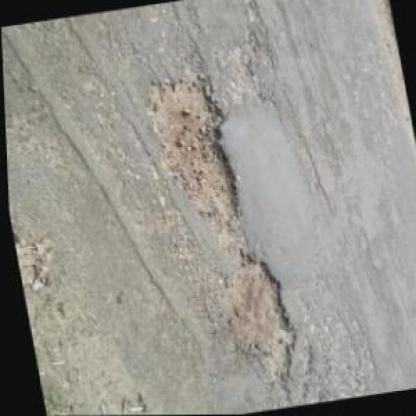pothole: (138, 68, 245, 245), (209, 245, 304, 394)
